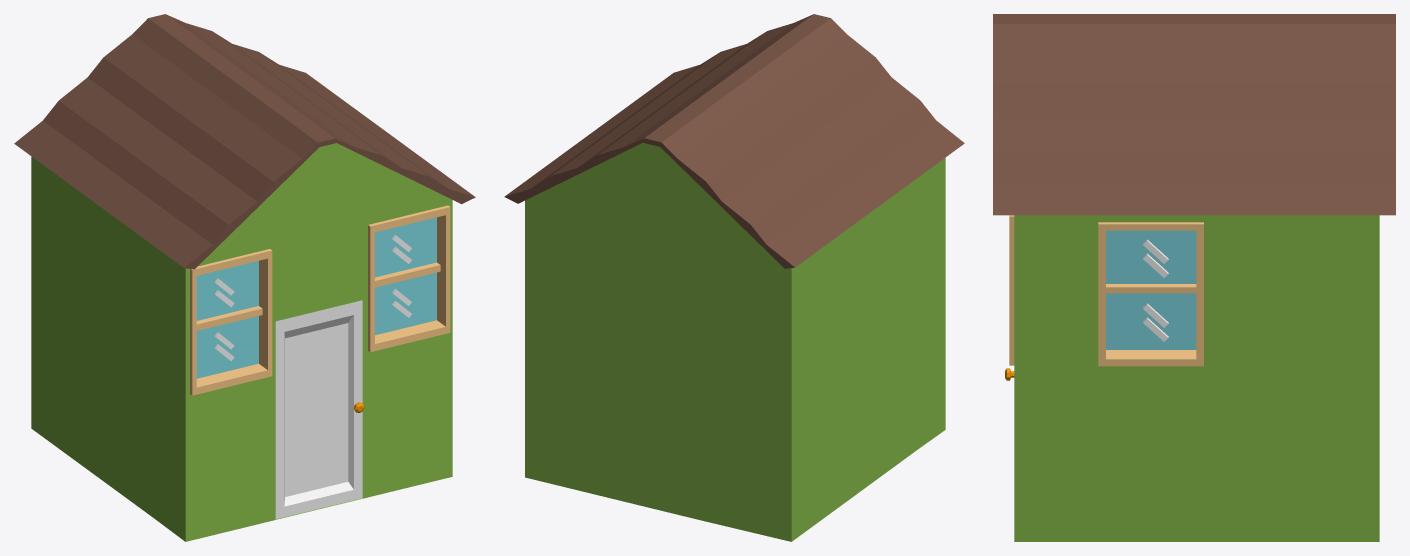
File: House.fbx
The picture shows the model from 3 angles, left to right: view 1: azimuth 30°, elevation 25°; view 2: azimuth 150°, elevation 25°; view 3: azimuth 270°, elevation 25°; orthographic projection. The views are drawn at different scales.
Parts seen in each view (by area): view 1: House; view 2: House; view 3: House.
Part boxes in pixels (x1,y1,x2,y2): House: (14,14,475,541); House: (504,14,964,541); House: (993,14,1395,541).
Size of the model in its own units: 6.21 by 7.64 by 6.27.
